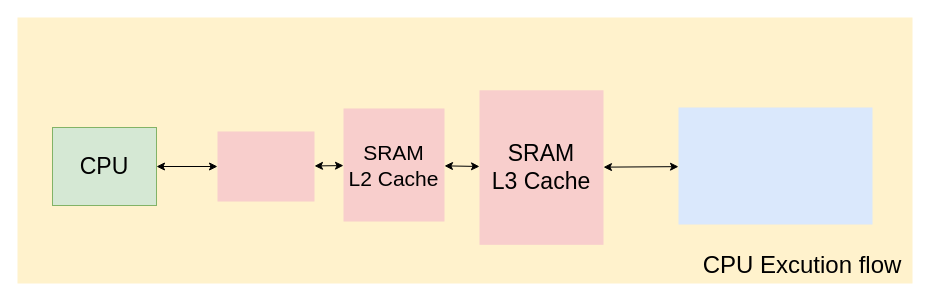
The diagram is 929 pixels wide and 300 high, and some of its shapes have lost their labels. The shapes that lost their labels are listed below. From the top down, each one's box as (x1, y1, x2, y2) in pixels, then its label:
(217, 131, 314, 201): SRAM L1 Cache
(678, 107, 872, 224): DRAM DDR
